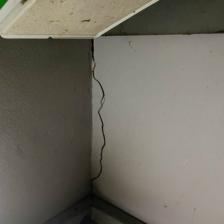Medium: (72, 42, 126, 191)
